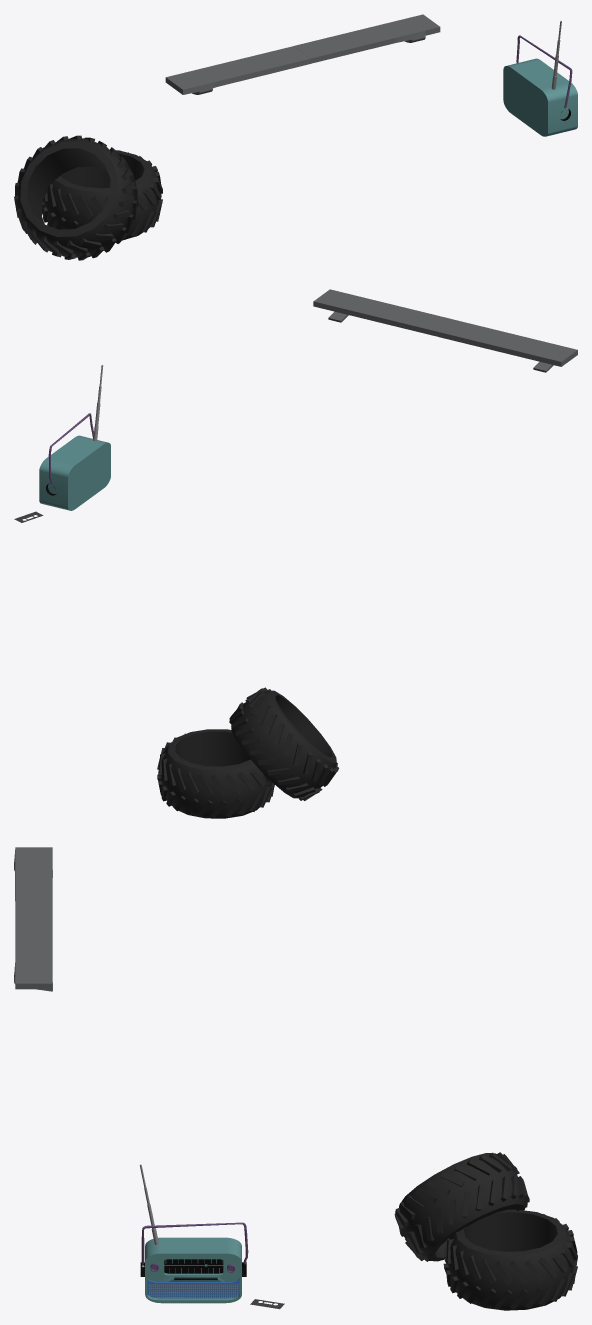
Rendered from Decors_6.glb.
3 renders of one model, top to bottom at view 1: azimuth 30°, elevation 25°; view 2: azimuth 150°, elevation 25°; view 3: azimuth 270°, elevation 25°, orthographic. The views are drawn at different scales.
Visible parts, largest first — view 1: Debris_Tires, AChelf, radio; view 2: Debris_Tires, AChelf, radio; view 3: Debris_Tires, radio, AChelf.
Boxes of the visible parts, x1,y1,x2,y2 form: Debris_Tires: [14, 135, 162, 260]; AChelf: [165, 14, 440, 94]; radio: [503, 21, 577, 136]; Debris_Tires: [157, 687, 338, 818]; AChelf: [313, 289, 577, 372]; radio: [39, 365, 110, 510]; Debris_Tires: [394, 1152, 577, 1310]; radio: [139, 1164, 248, 1303]; AChelf: [14, 847, 52, 991].
Bounding box in the file's own units: 7.78 × 5.4 × 7.56.
